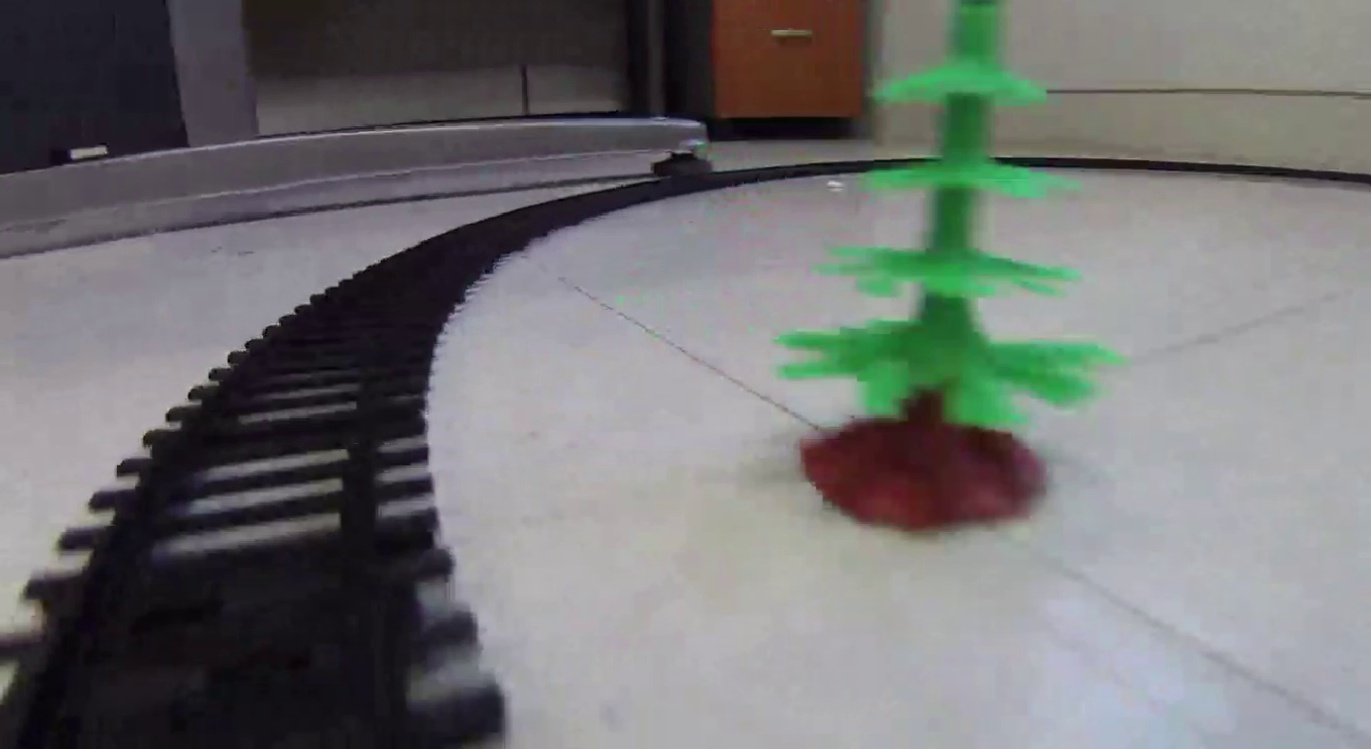tree: (775, 3, 1118, 525)
